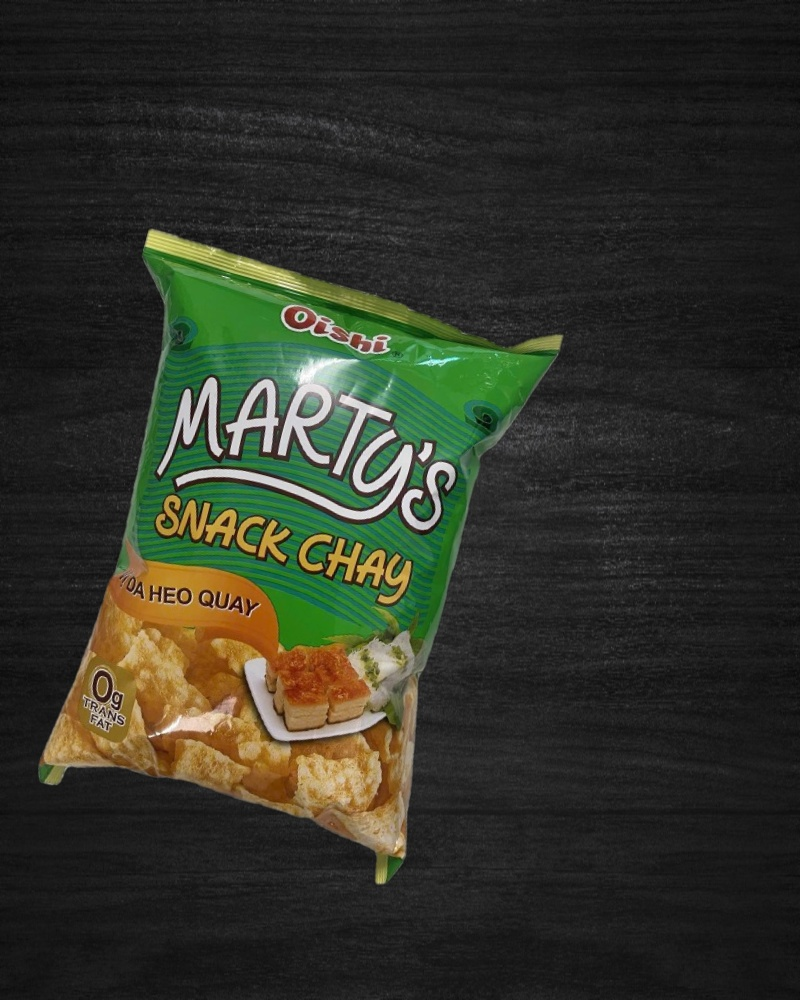Snack chay: (0, 224, 565, 896)
